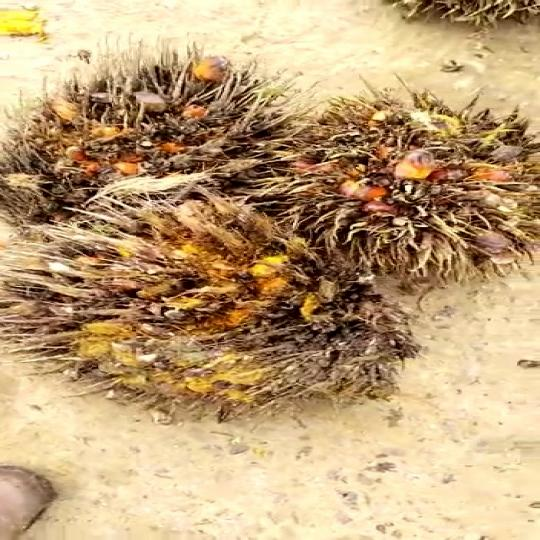terlalu masak: (0, 209, 416, 406), (0, 68, 294, 229), (280, 100, 540, 272)
